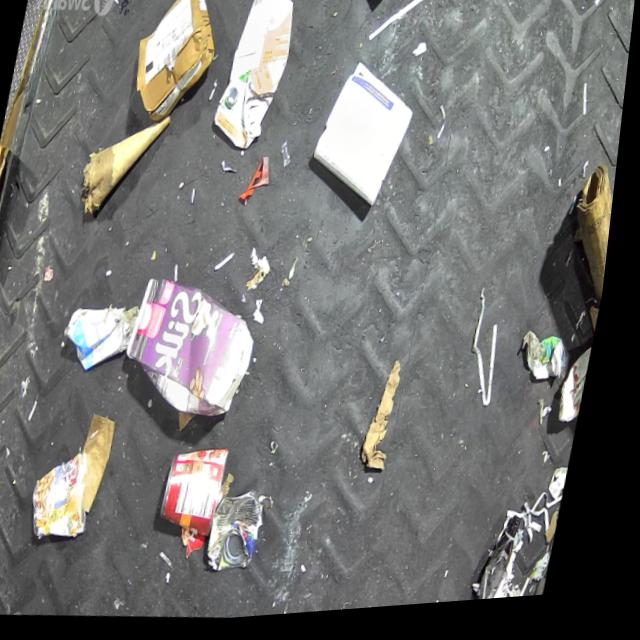can: (166, 444, 241, 543), (35, 447, 111, 542), (213, 488, 281, 579), (565, 348, 601, 436)
non_white_jug: (122, 272, 273, 430), (209, 0, 301, 154)
